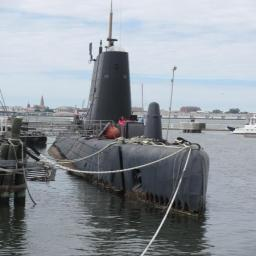submarine: (57, 1, 256, 164)
